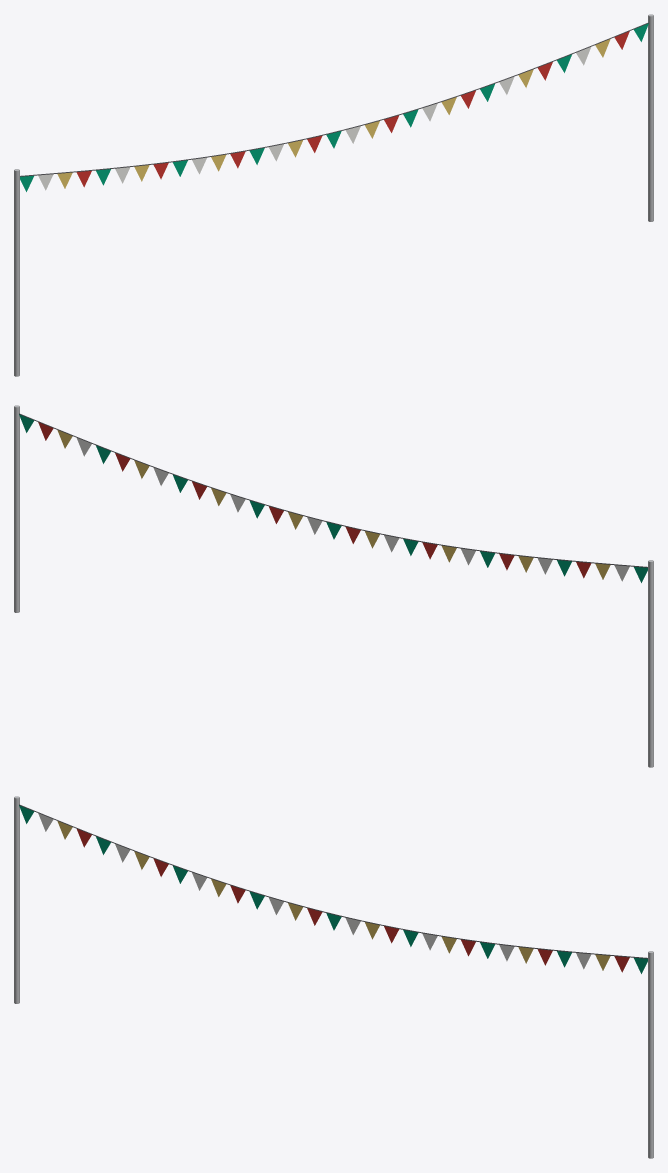
Rendered from SM_Bunting_20m.fbx.
3 renders of one model, top to bottom at view 1: azimuth 30°, elevation 25°; view 2: azimuth 150°, elevation 25°; view 3: azimuth 330°, elevation 25°, orthographic.
Visible parts, largest first — view 1: SM_Bunting_20m; view 2: SM_Bunting_20m; view 3: SM_Bunting_20m.
Part boxes in pixels (<box>): SM_Bunting_20m: <box>14,14,653,376</box>; SM_Bunting_20m: <box>14,405,653,767</box>; SM_Bunting_20m: <box>14,796,653,1158</box>.
Size of the model in its own units: 2014 by 620 by 16.
